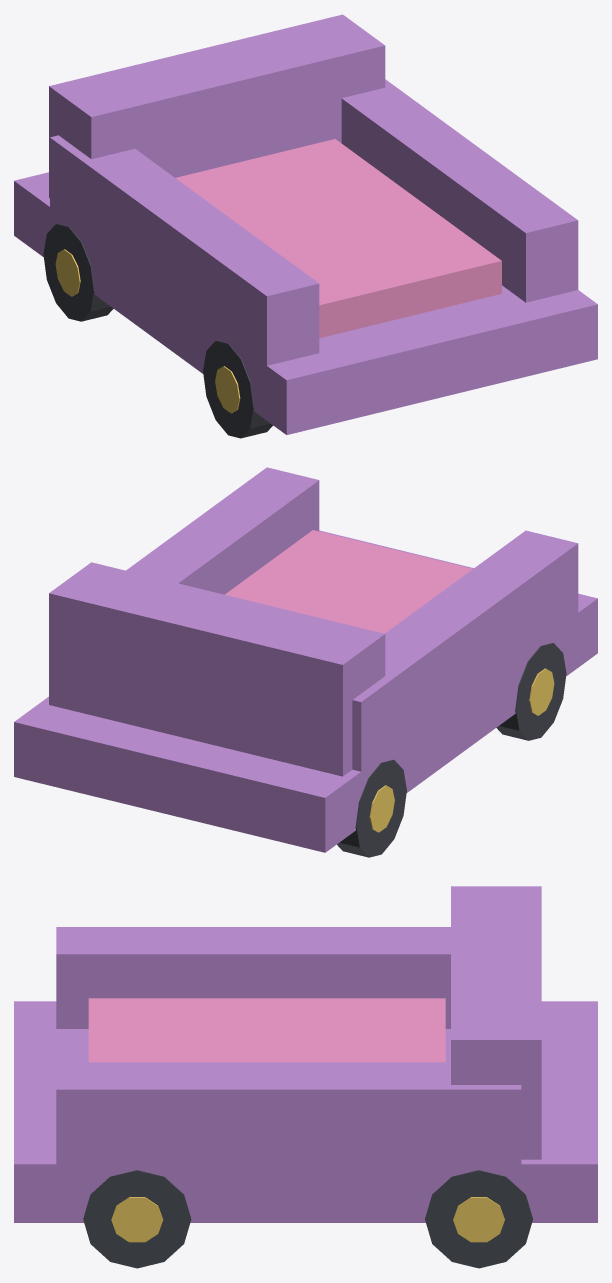
File: player_sofa_car.glb
3 views of the same model, one above another, from view 1: azimuth 30°, elevation 25°; view 2: azimuth 150°, elevation 25°; view 3: azimuth 270°, elevation 25° (orthographic). The views are drawn at different scales.
Parts seen in each view (by area): view 1: sofa_base_0, sofa_back_1, cushion_4, arm_L_2, arm_R_3, wheel_FL_5, wheel_RL_9, rim_FL_6, rim_RL_10; view 2: sofa_back_1, sofa_base_0, arm_L_2, cushion_4, arm_R_3, wheel_FL_5, wheel_RL_9, rim_RL_10, rim_FL_6; view 3: arm_R_3, sofa_base_0, arm_L_2, cushion_4, sofa_back_1, wheel_FR_7, wheel_RR_11, rim_RR_12, rim_FR_8.
Boxes of the visible parts, x1,y1,x2,y2 form: sofa_base_0: [14, 172, 597, 434]; sofa_back_1: [49, 14, 385, 198]; cushion_4: [175, 139, 501, 338]; arm_L_2: [50, 135, 319, 372]; arm_R_3: [341, 79, 578, 302]; wheel_FL_5: [203, 340, 272, 438]; wheel_RL_9: [43, 224, 113, 321]; rim_FL_6: [215, 366, 240, 413]; rim_RL_10: [55, 249, 80, 296]; sofa_back_1: [49, 562, 385, 776]; sofa_base_0: [14, 530, 597, 852]; arm_L_2: [352, 530, 578, 771]; cushion_4: [225, 530, 472, 633]; arm_R_3: [126, 467, 319, 594]; wheel_FL_5: [496, 643, 566, 740]; wheel_RL_9: [337, 759, 406, 857]; rim_RL_10: [369, 785, 394, 832]; rim_FL_6: [529, 668, 554, 715]; arm_R_3: [56, 1062, 521, 1171]; sofa_base_0: [14, 1001, 597, 1222]; arm_L_2: [56, 927, 450, 1028]; cushion_4: [88, 998, 445, 1062]; sofa_back_1: [451, 886, 541, 1159]; wheel_FR_7: [83, 1170, 191, 1268]; wheel_RR_11: [425, 1170, 532, 1268]; rim_RR_12: [453, 1197, 504, 1242]; rim_FR_8: [111, 1197, 163, 1242].
Size of the model in its own units: 1.8 by 1.14 by 2.7.
